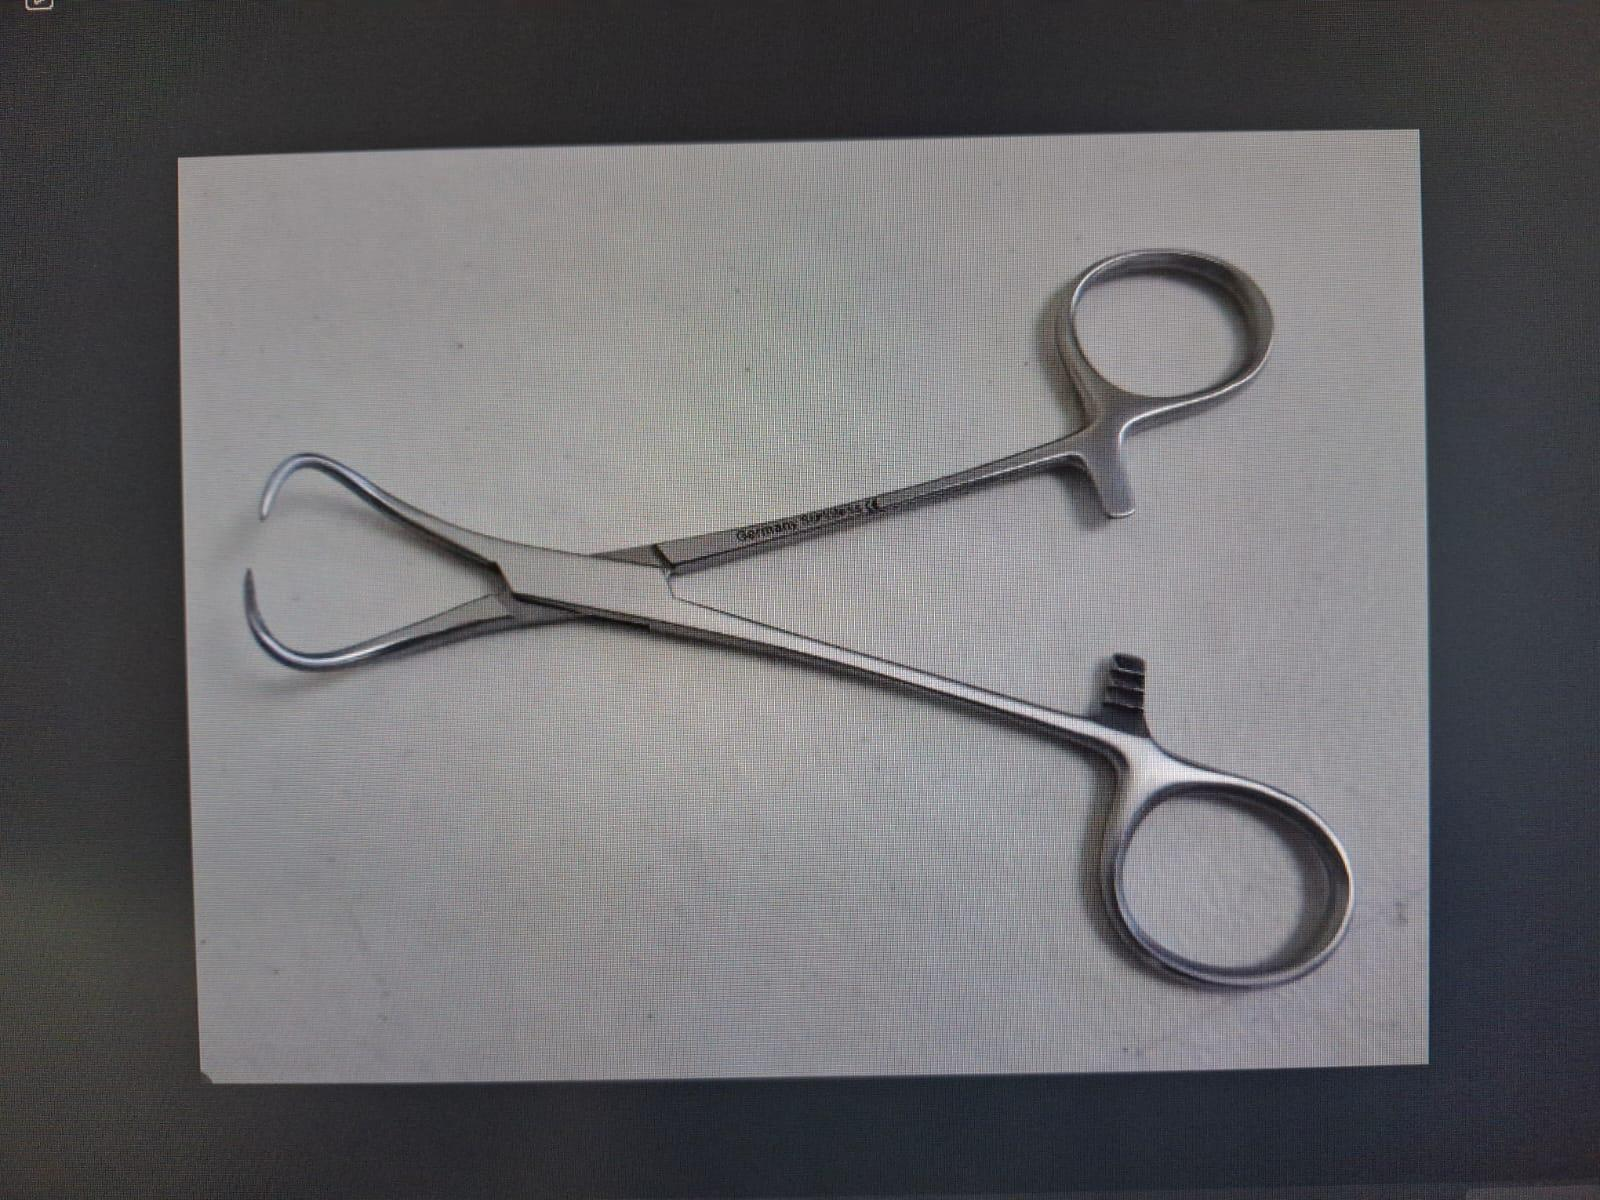Backhaus: (220, 236, 1388, 998)
